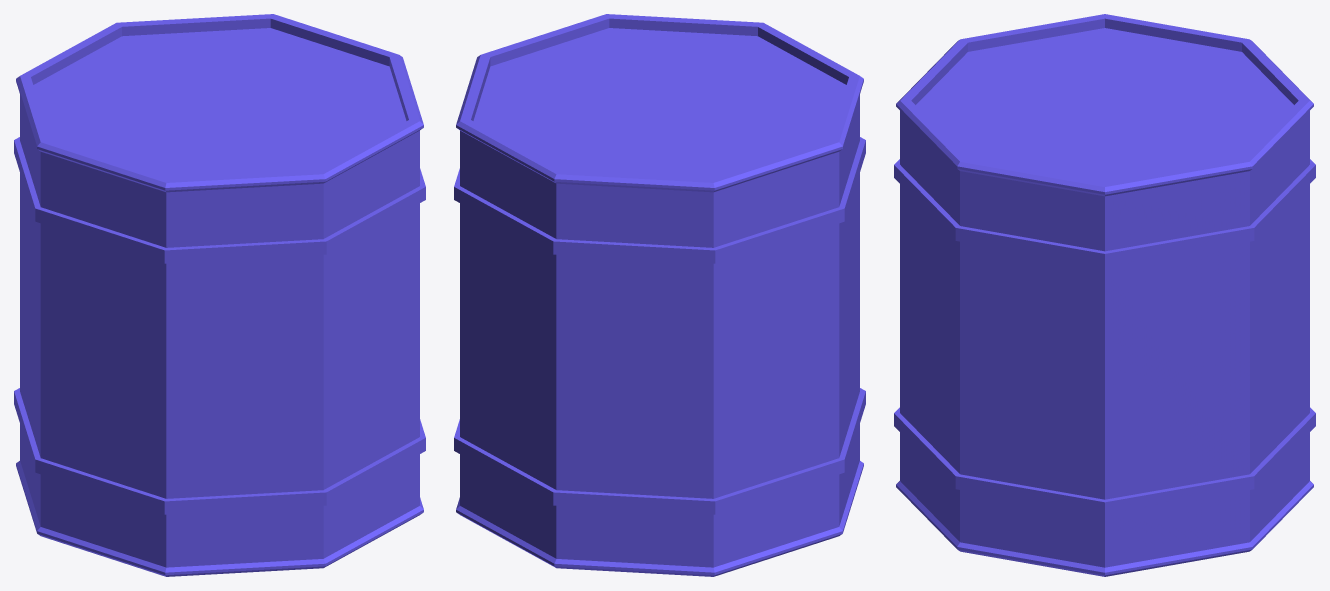
File: Shock_Barrel.glb
3 renders of one model, left to right at view 1: azimuth 30°, elevation 25°; view 2: azimuth 150°, elevation 25°; view 3: azimuth 270°, elevation 25°, orthographic.
Parts seen in each view (by area): view 1: Shock Barrel; view 2: Shock Barrel; view 3: Shock Barrel.
Boxes of the visible parts, <box> form: Shock Barrel: <box>14,14,425,576</box>; Shock Barrel: <box>454,14,865,576</box>; Shock Barrel: <box>894,14,1315,576</box>.
Size of the model in its own units: 2.06 by 2.1 by 2.06.
1 material, 1 textured.
